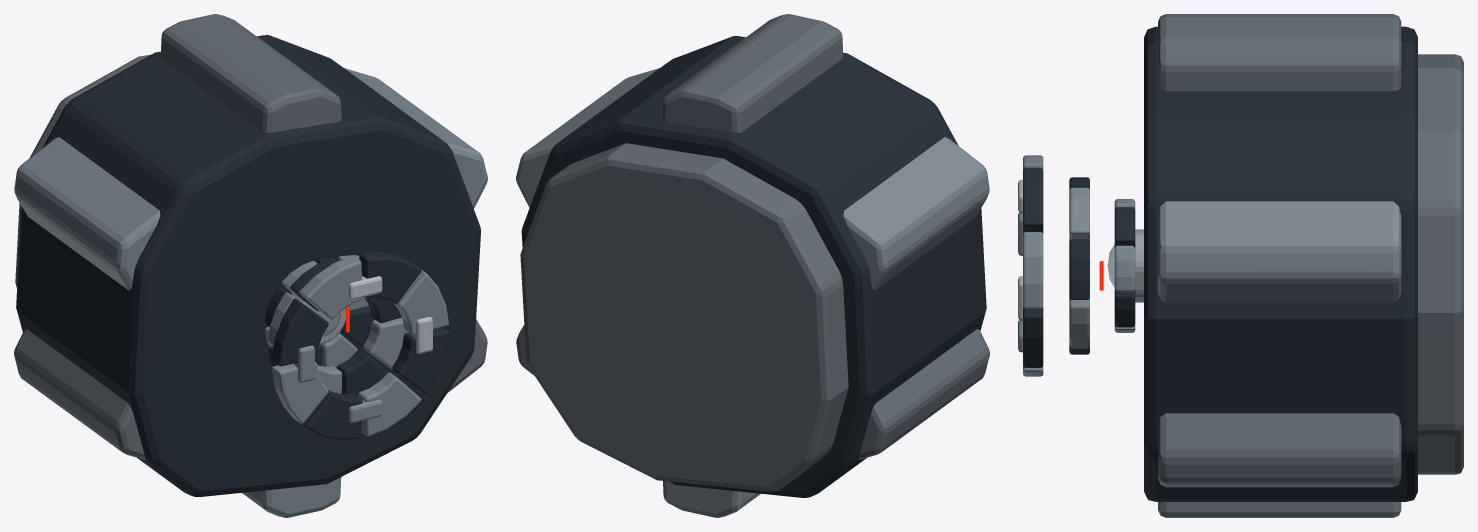
The model's file is orbit-protect-balanced.glb.
3 views of the same model, side by side, from view 1: azimuth 30°, elevation 25°; view 2: azimuth 150°, elevation 25°; view 3: azimuth 270°, elevation 25° (orthographic). The views are drawn at different scales.
Parts seen in each view (by area): view 1: Protect_MID_SolidCitadelCore, Protect_MID_ShieldBastion_01, Protect_MID_ShieldBastion_02, Protect_MID_ShieldBastion_03, Protect_MID_ShieldBastion_00, Protect_MID_LockCollar_0_02, Protect_MID_LockCollar_0_03, Protect_MID_ShieldBastion_04, Protect_MID_LockCollar_0_07, Protect_MID_LockCollar_0_06, Protect_MID_LockCollar_0_04, Protect_MID_LockCollar_0_01 (+15 smaller); view 2: Protect_MID_RearPressureHull, Protect_MID_SolidCitadelCore, Protect_MID_ShieldBastion_01, Protect_MID_ShieldBastion_02, Protect_MID_ShieldBastion_03, Protect_MID_ShieldBastion_00, Protect_MID_ShieldBastion_04; view 3: Protect_MID_SolidCitadelCore, Protect_MID_ShieldBastion_00, Protect_MID_RearPressureHull, Protect_MID_ShieldBastion_01, Protect_MID_ShieldBastion_05, Protect_MID_ShieldBastion_04, Protect_MID_LockCollar_0_00, Protect_MID_LockCollar_0_01, Protect_MID_LockCollar_1_00, Protect_MID_LockCollar_0_07, Protect_MID_LockCollar_1_01, Protect_MID_LockCollar_2_00 (+4 smaller).
Part boxes in pixels (x1,y1,x2,y2): Protect_MID_SolidCitadelCore: (16,35,480,496); Protect_MID_ShieldBastion_01: (160,14,341,132); Protect_MID_ShieldBastion_02: (14,137,160,290); Protect_MID_ShieldBastion_03: (14,329,145,459); Protect_MID_ShieldBastion_00: (344,68,487,208); Protect_MID_LockCollar_0_02: (299,256,362,319); Protect_MID_LockCollar_0_03: (272,298,328,366); Protect_MID_ShieldBastion_04: (242,477,341,517); Protect_MID_LockCollar_0_07: (392,327,448,393); Protect_MID_LockCollar_0_06: (358,372,421,436); Protect_MID_LockCollar_0_04: (272,362,328,423); Protect_MID_LockCollar_0_01: (359,252,421,303); Protect_MID_RearPressureHull: (520,143,848,491); Protect_MID_SolidCitadelCore: (521,36,986,497); Protect_MID_ShieldBastion_01: (662,14,843,132); Protect_MID_ShieldBastion_02: (843,137,989,290); Protect_MID_ShieldBastion_03: (858,329,989,459); Protect_MID_ShieldBastion_00: (516,68,659,207); Protect_MID_ShieldBastion_04: (663,481,760,517); Protect_MID_SolidCitadelCore: (1144,26,1417,501); Protect_MID_ShieldBastion_00: (1158,201,1401,302); Protect_MID_RearPressureHull: (1418,54,1463,474); Protect_MID_ShieldBastion_01: (1158,14,1401,91); Protect_MID_ShieldBastion_05: (1158,413,1401,487); Protect_MID_ShieldBastion_04: (1158,502,1401,517); Protect_MID_LockCollar_0_00: (1023,232,1043,308); Protect_MID_LockCollar_0_01: (1023,168,1043,233); Protect_MID_LockCollar_1_00: (1069,239,1089,299); Protect_MID_LockCollar_0_07: (1023,307,1043,367); Protect_MID_LockCollar_1_01: (1069,187,1089,241); Protect_MID_LockCollar_2_00: (1114,245,1135,291).
Size of the model in its own units: 7.04 by 7.69 by 6.51.
